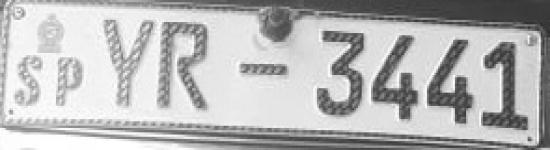-: (236, 52, 290, 86)
1: (477, 34, 532, 136)
3: (309, 26, 369, 120)
4: (371, 26, 425, 126), (423, 29, 476, 130)
P: (50, 53, 90, 111)
R: (156, 19, 215, 115)
S: (11, 54, 48, 112)
Y: (101, 14, 155, 111)
